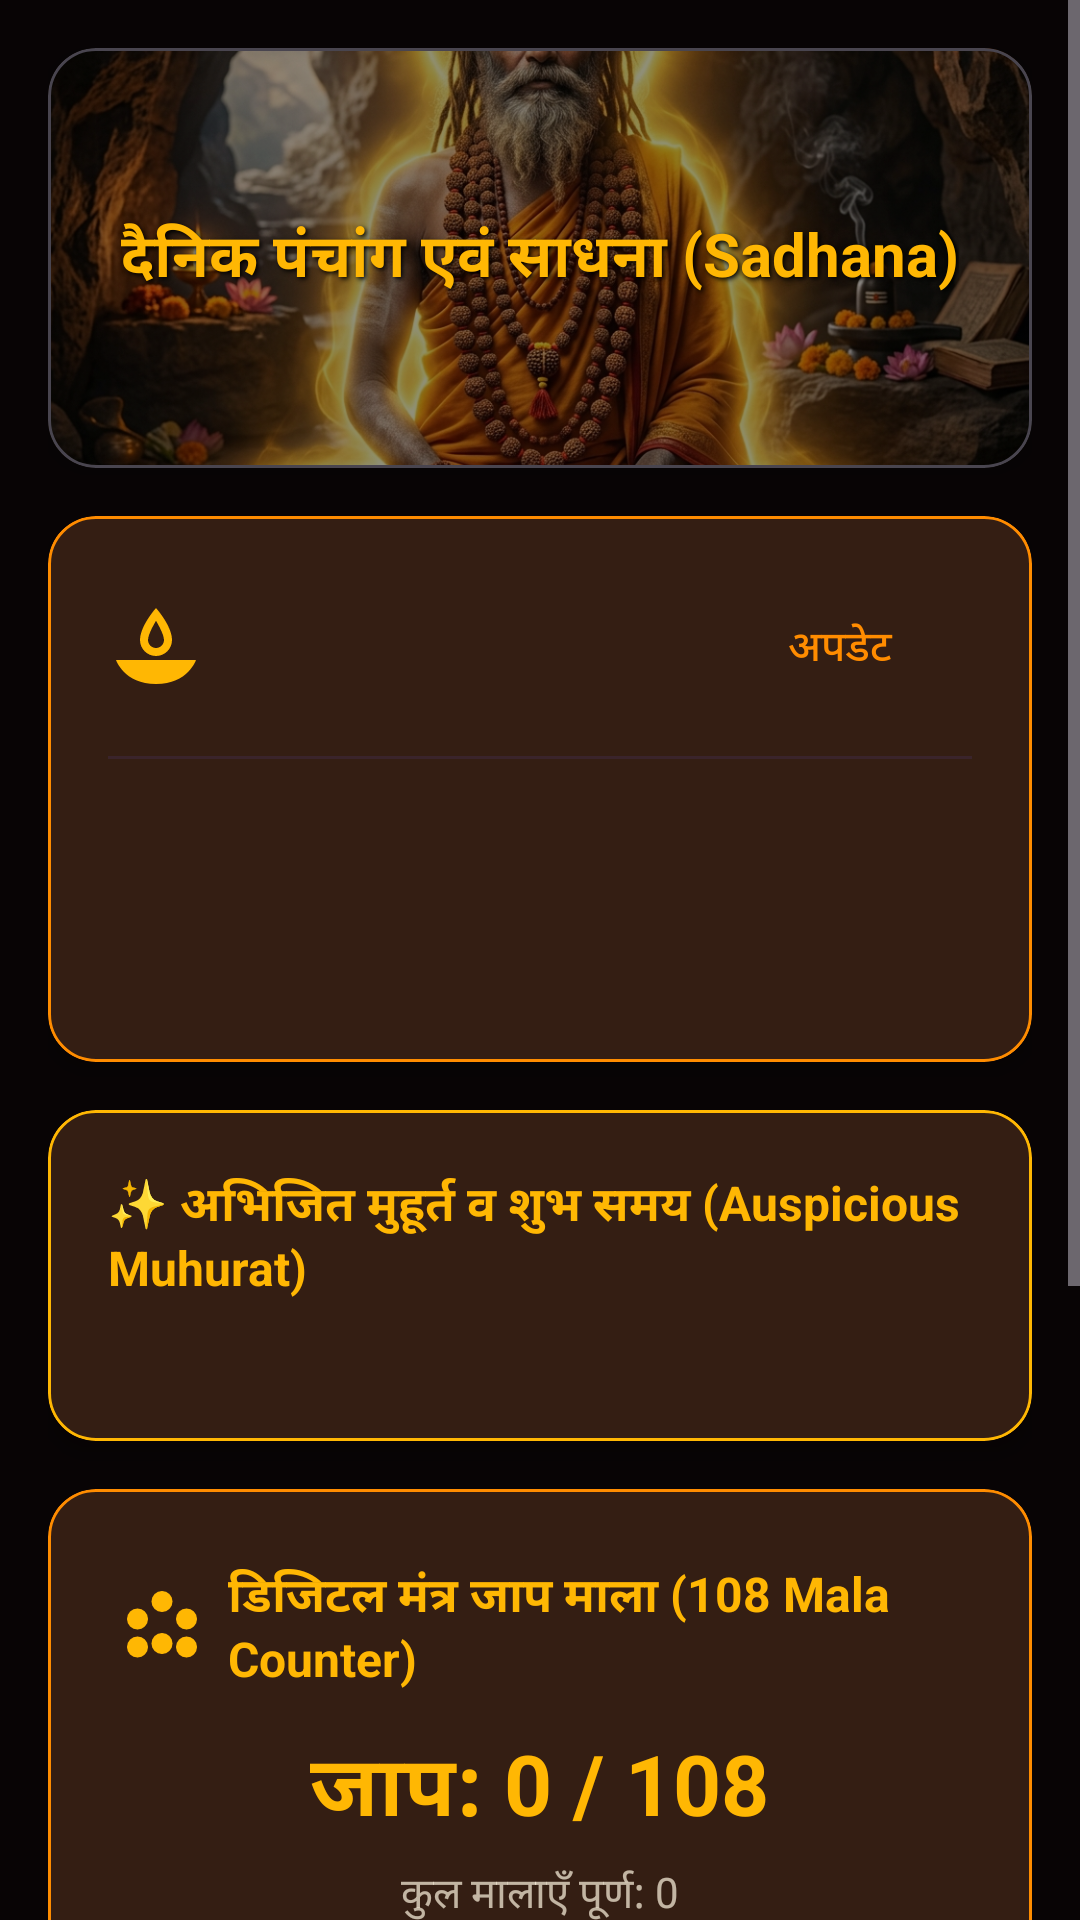

Icons on this 1080 × 1920 Android screen, each with its box as bbox(x1, y1, x2, y2):
Sadhana Icon: bbox(116, 608, 196, 684)
